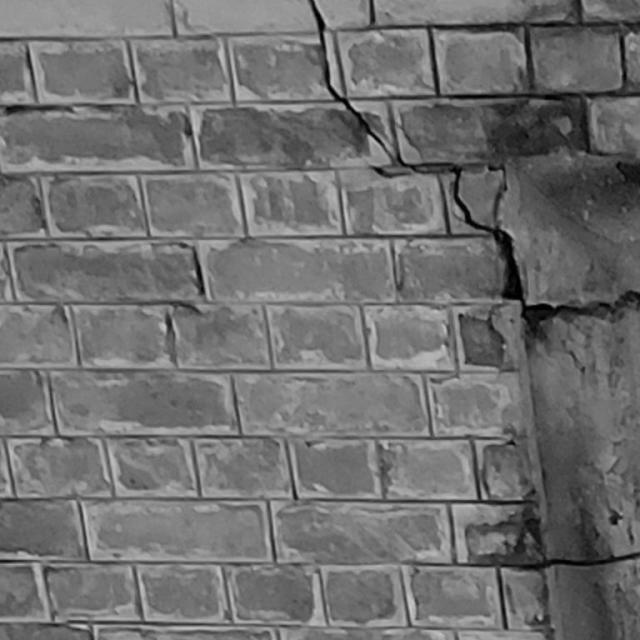crack: (309, 1, 524, 301)
